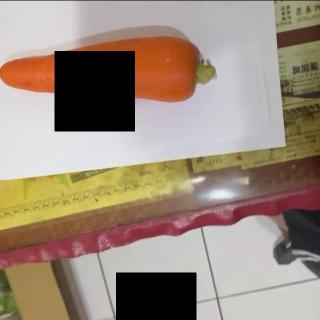carrot: (0, 33, 220, 103)
